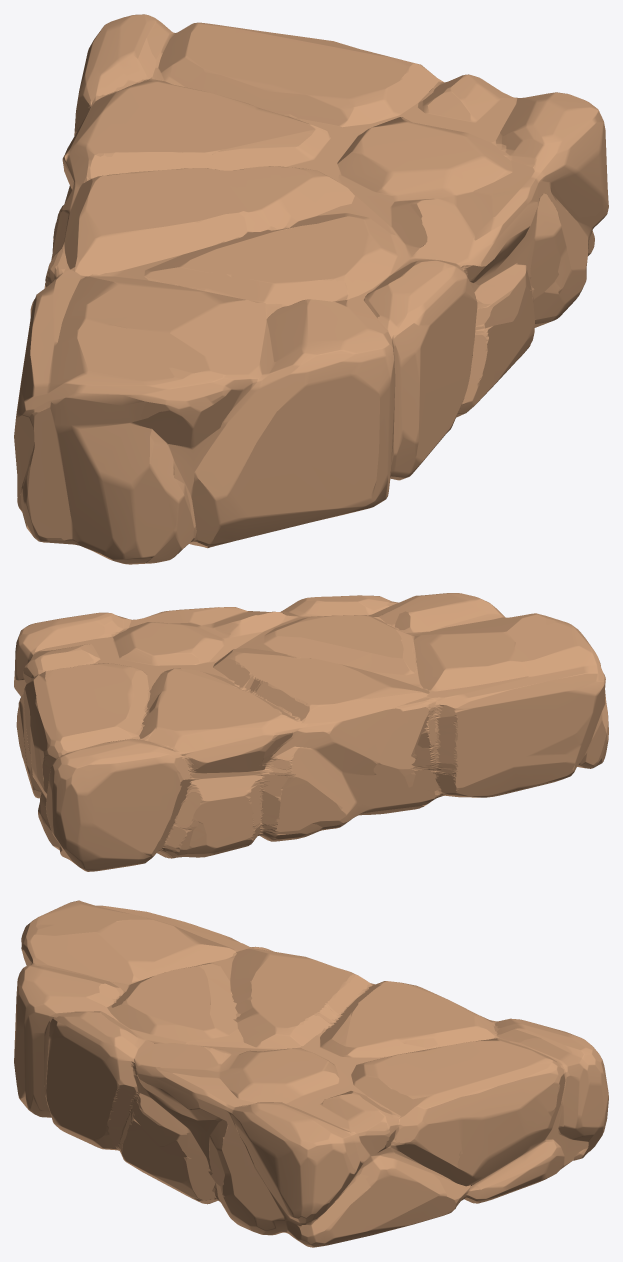
3 renders of one model, top to bottom at view 1: azimuth 30°, elevation 25°; view 2: azimuth 150°, elevation 25°; view 3: azimuth 270°, elevation 25°, orthographic. The views are drawn at different scales.
Visible parts, largest first — view 1: Mesh_32_LOD0; view 2: Mesh_32_LOD0; view 3: Mesh_32_LOD0.
Boxes of the visible parts, x1,y1,x2,y2 form: Mesh_32_LOD0: [14, 14, 608, 564]; Mesh_32_LOD0: [14, 593, 608, 871]; Mesh_32_LOD0: [14, 900, 608, 1247].
Size of what is drawn, in the model's own units: 3485 by 882 by 3482.
